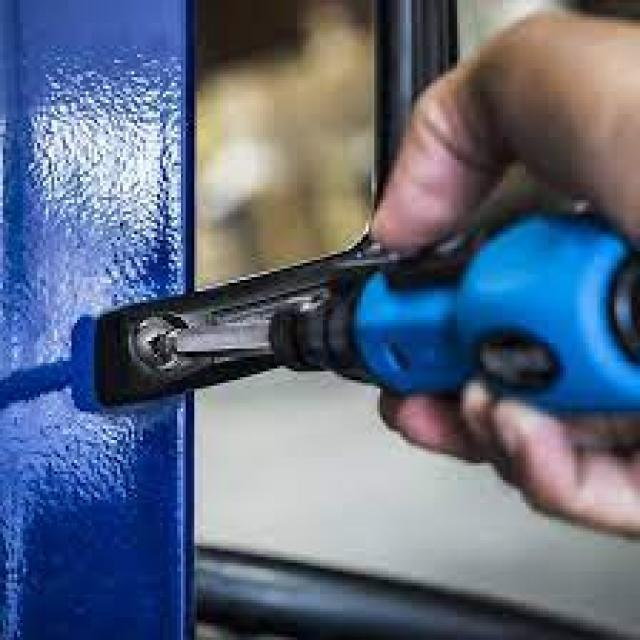screwdriver: (163, 217, 640, 429)
